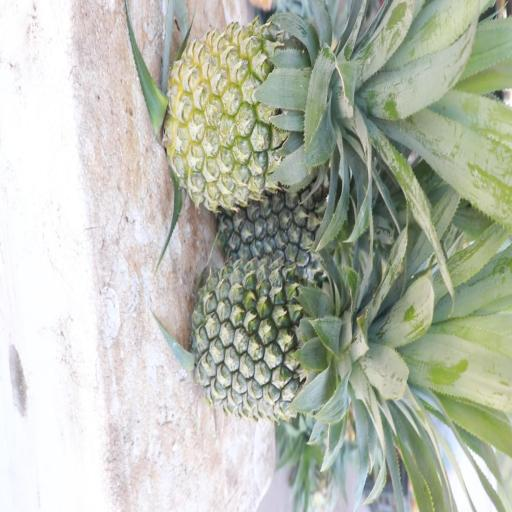Pineapple - v8 v1: (169, 15, 338, 203)
